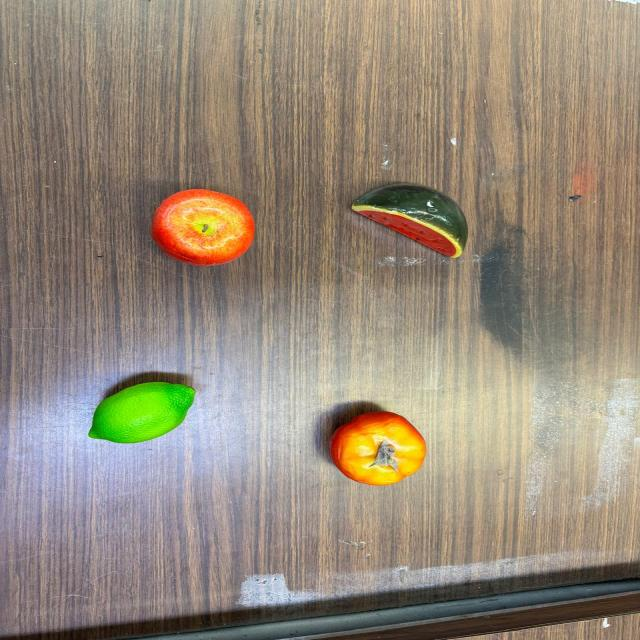apple: (151, 189, 255, 265)
lemon: (88, 382, 194, 442)
tomato: (329, 412, 425, 486)
watermelon: (350, 183, 467, 260)
